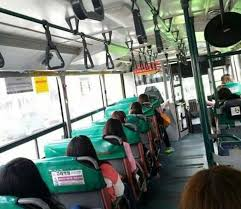seat: (35, 151, 73, 186)
